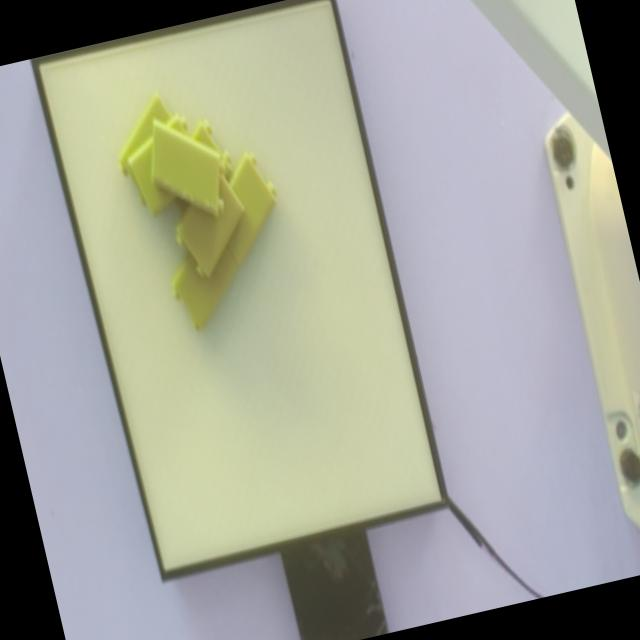bateria: (150, 118, 225, 217)
mesa: (32, 0, 451, 580)
